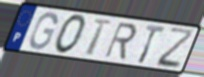G: (28, 11, 59, 51)
O: (52, 13, 88, 56)
R: (103, 21, 139, 62)
T: (137, 24, 167, 66), (85, 17, 113, 58)
Z: (155, 26, 197, 70)
